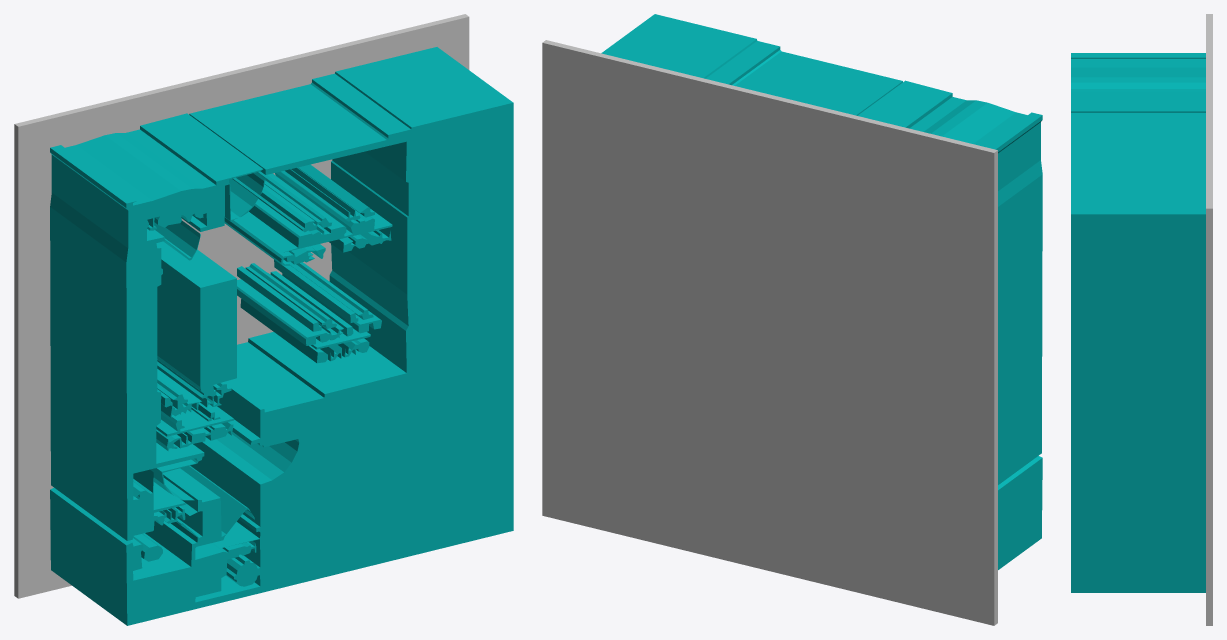
The picture shows the model from 3 angles, left to right: view 1: azimuth 30°, elevation 25°; view 2: azimuth 150°, elevation 25°; view 3: azimuth 270°, elevation 25°; orthographic projection. The views are drawn at different scales.
Parts seen in each view (by area): view 1: world; view 2: world; view 3: world.
Boxes of the visible parts, x1,y1,x2,y2 form: world: [14, 14, 513, 625]; world: [542, 14, 1042, 625]; world: [1071, 14, 1212, 625].
Bounding box in the file's own units: 10.23 × 10.23 × 3.15.
